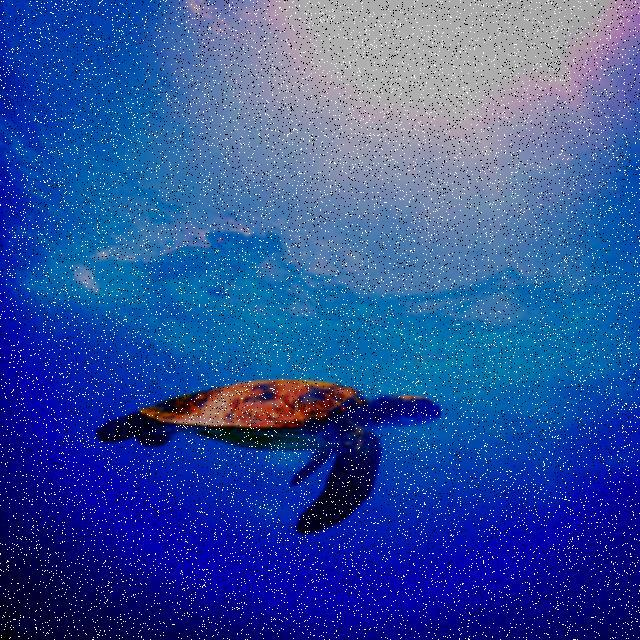tortoise: (77, 362, 473, 542)
